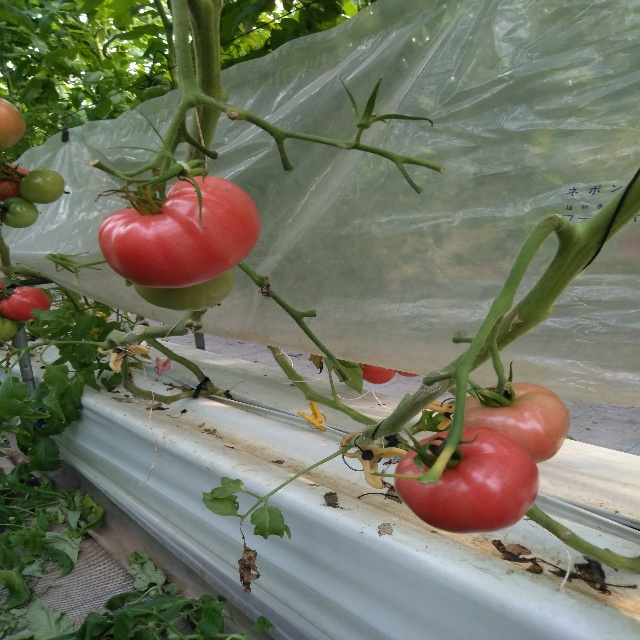b_fully_ripened: (98, 176, 261, 289), (394, 428, 540, 534), (0, 286, 52, 322)
b_green: (131, 268, 236, 312), (20, 167, 66, 205), (0, 197, 38, 229), (0, 318, 19, 341)
b_half_ripened: (463, 383, 571, 464), (0, 97, 26, 150)
